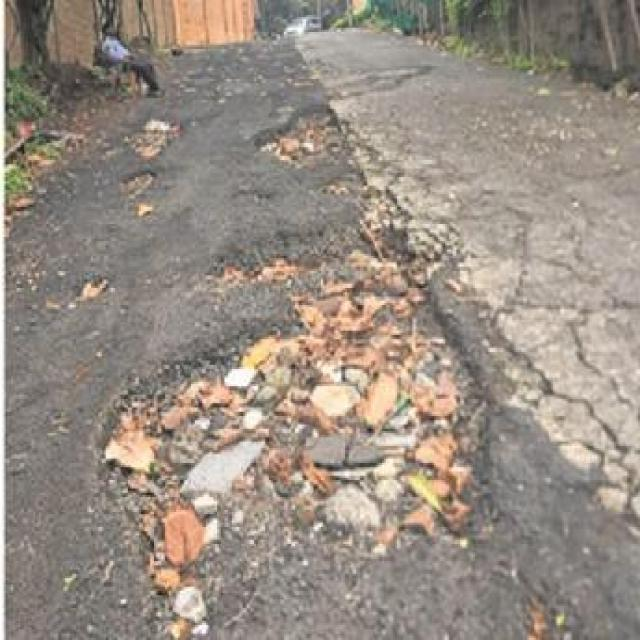buraco: (90, 162, 504, 640), (90, 235, 483, 632), (246, 99, 356, 178), (250, 105, 354, 167), (120, 112, 190, 161), (124, 111, 188, 154), (118, 164, 157, 197), (122, 164, 158, 194)
